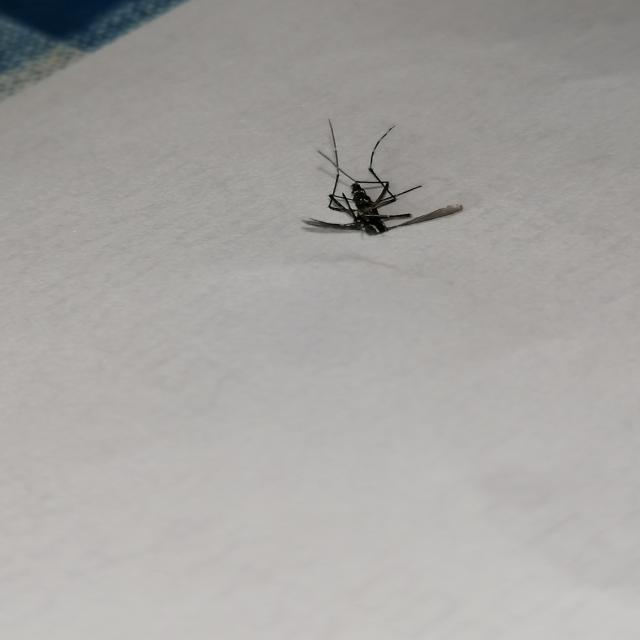albopictus: (289, 118, 464, 241)
